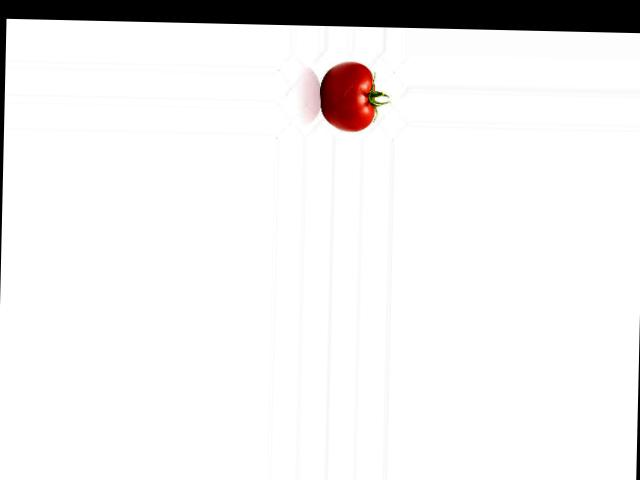tomato: (319, 60, 375, 132)
